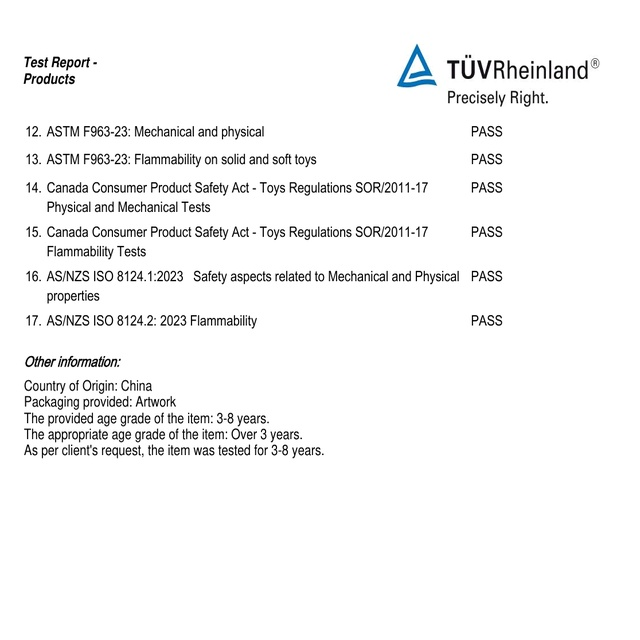tuv_rheinland: (397, 42, 602, 92)
